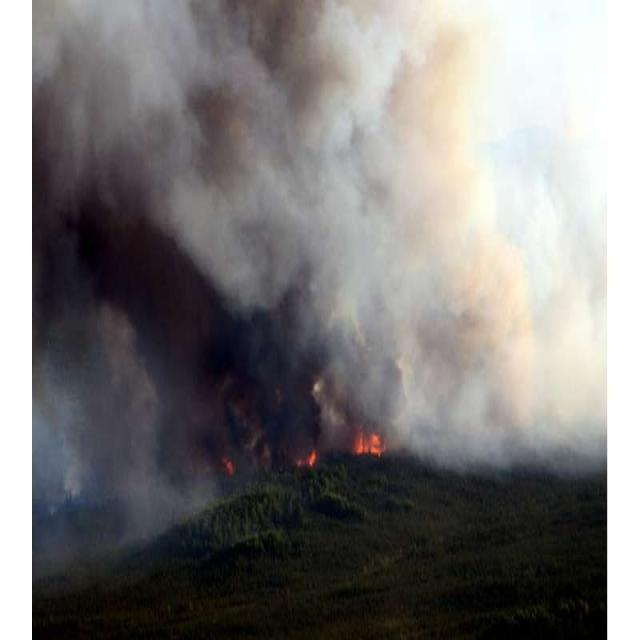Fire: (351, 424, 391, 468), (288, 442, 326, 474), (222, 448, 237, 480)
Smoke: (31, 2, 611, 563)
